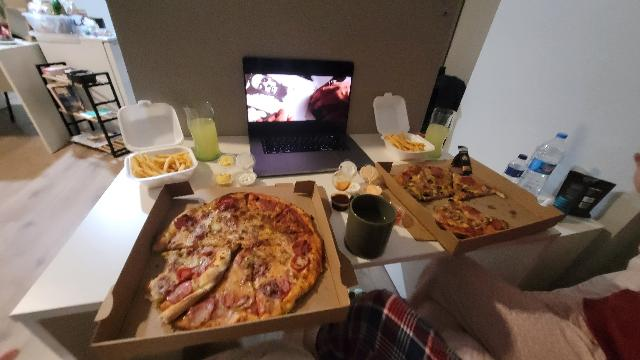Cam: (185, 99, 224, 165), (423, 105, 457, 158)
Organik: (161, 192, 321, 322), (412, 163, 501, 235), (130, 155, 187, 175), (387, 130, 419, 152)
Plastik: (522, 127, 571, 202)
